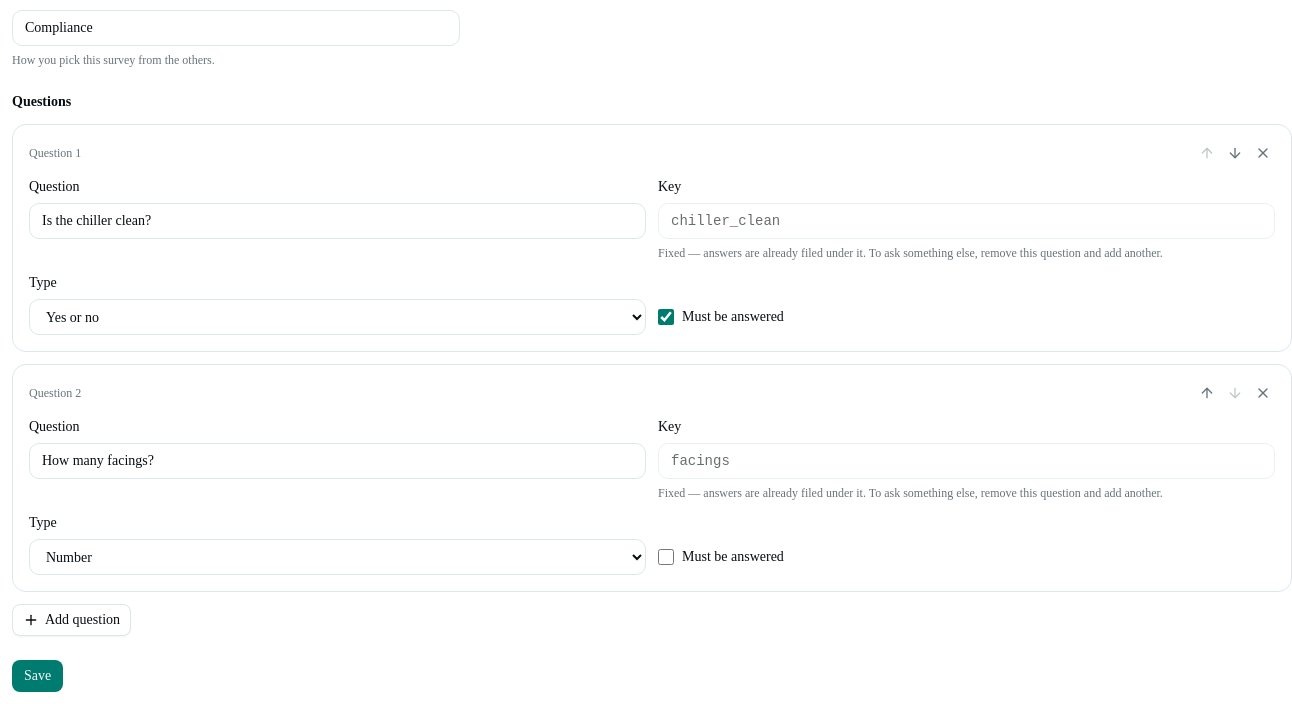
<SurveyEditor> › says what changing a saved question's type costs, without blocking it
Expected: the button "Add question" is shown, x1=12 y1=604 x2=131 y2=636
Select "Text" in the dropdown labelled "Type" below "Question 1": (338, 317) x1=29 y1=299 x2=646 y2=335
(page scrolled)
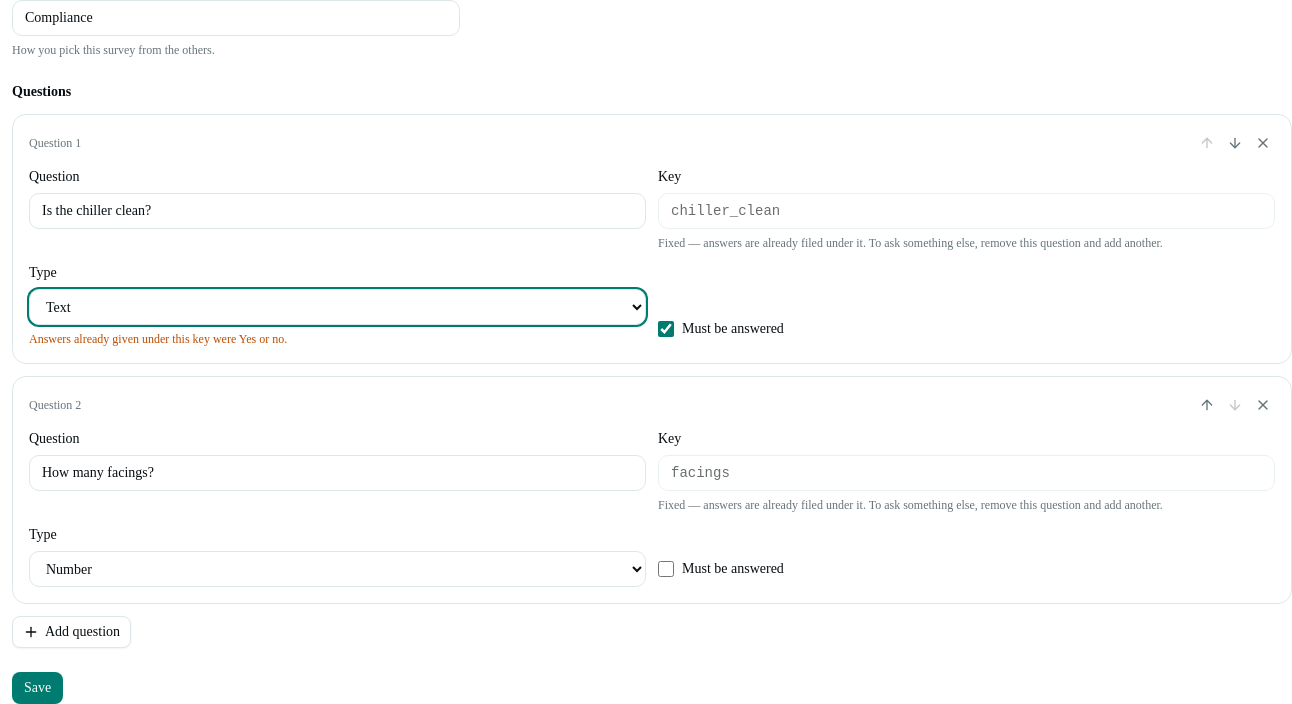
Expected: the button "Save" is enabled, x1=12 y1=672 x2=63 y2=703
Result: the text "Answers already given under this key were Yes or no." is shown at x1=29 y1=332 x2=287 y2=346
